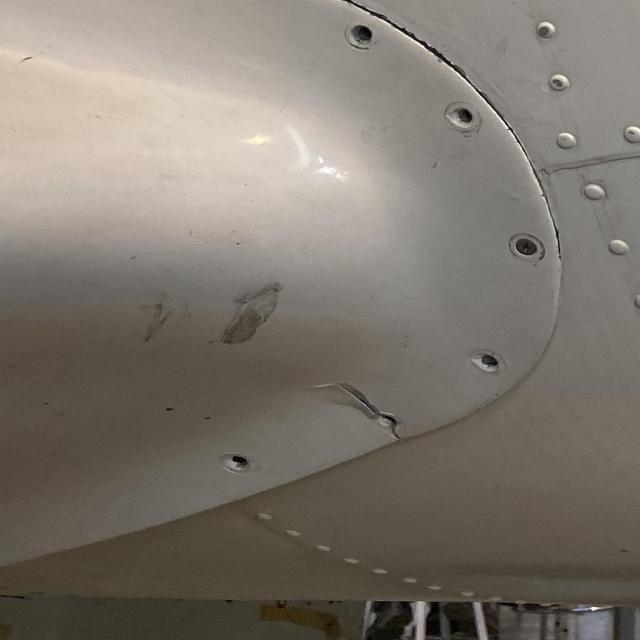Crack: (314, 382, 399, 435), (390, 429, 407, 443)
Missing-head: (445, 104, 481, 134), (469, 352, 504, 375), (349, 23, 378, 50), (221, 455, 251, 473)
